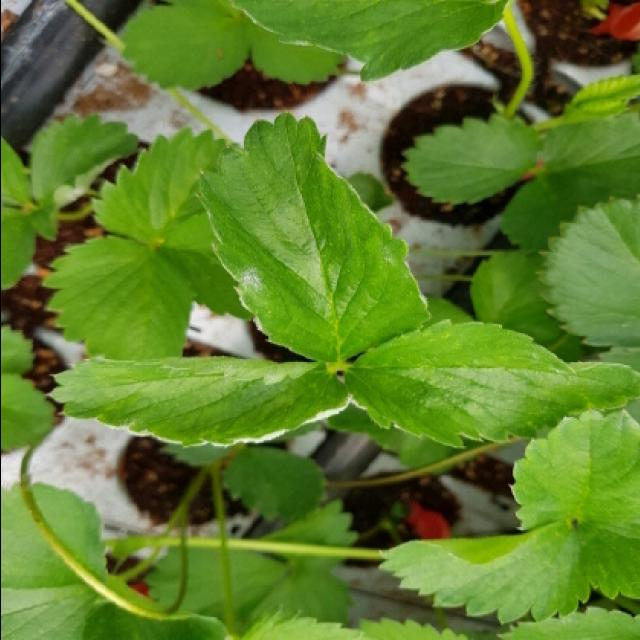Powdery Mildew Leaf: (197, 110, 431, 365), (44, 356, 351, 448)
